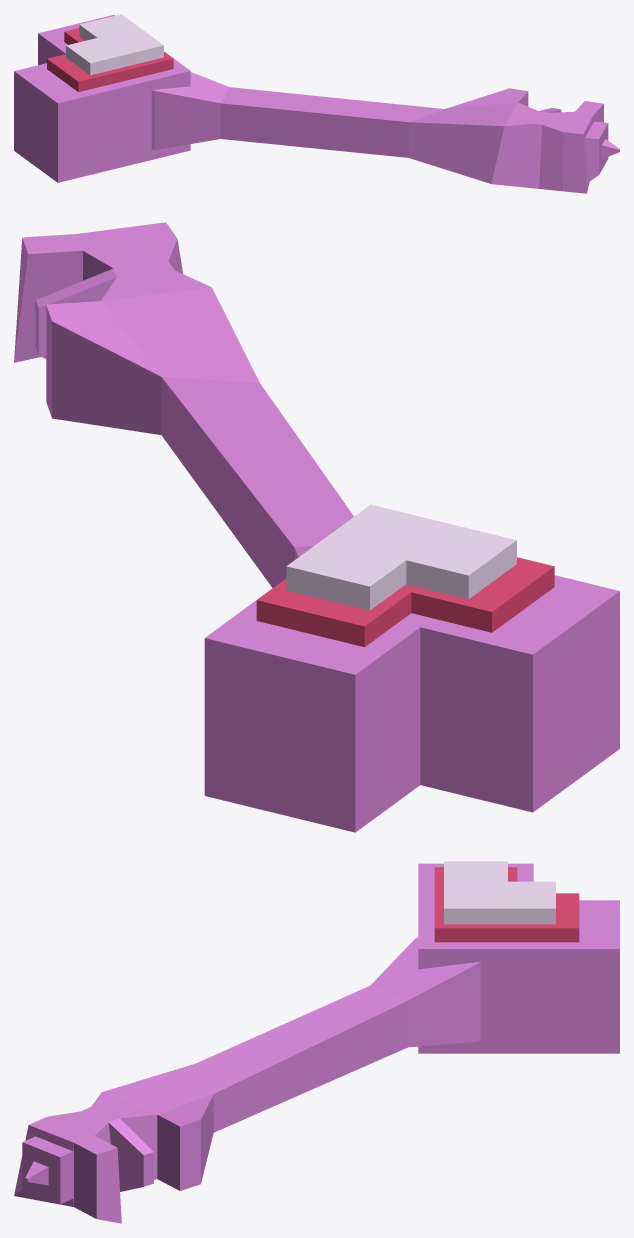
Rendered from heartKey.fbx.
3 renders of one model, top to bottom at view 1: azimuth 30°, elevation 25°; view 2: azimuth 150°, elevation 25°; view 3: azimuth 270°, elevation 25°, orthographic. The views are drawn at different scales.
Visible parts, largest first — view 1: Cube.001, Cube, Cube.003, Cube.002; view 2: Cube, Cube.001, Cube.003, Cube.002; view 3: Cube.001, Cube, Cube.003, Cube.002.
Boxes of the visible parts, bbox=[...] form: Cube.001: bbox=[151, 72, 619, 193]; Cube: bbox=[14, 15, 190, 182]; Cube.003: bbox=[66, 14, 163, 75]; Cube.002: bbox=[47, 28, 173, 92]; Cube: bbox=[204, 575, 619, 832]; Cube.001: bbox=[14, 222, 353, 587]; Cube.003: bbox=[286, 504, 516, 610]; Cube.002: bbox=[256, 557, 554, 647]; Cube.001: bbox=[14, 937, 480, 1223]; Cube: bbox=[418, 863, 619, 1053]; Cube.003: bbox=[444, 861, 555, 924]; Cube.002: bbox=[434, 867, 579, 942].
Bounding box in the file's own units: 746 × 172 × 703.
